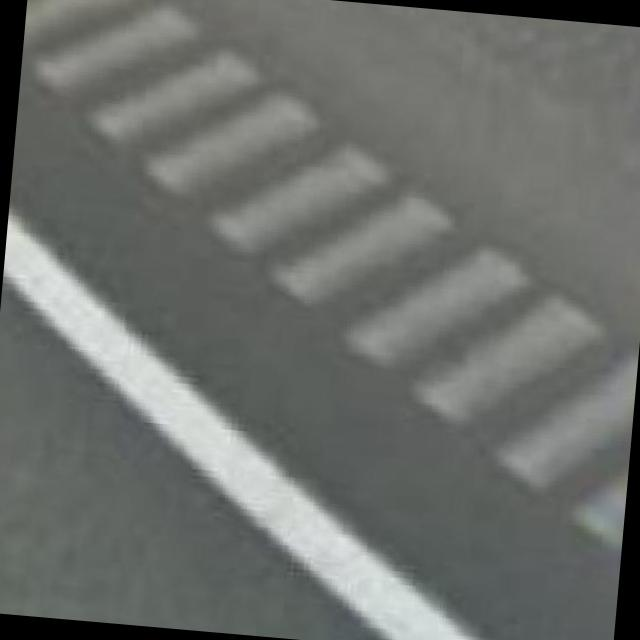zebra: (21, 0, 637, 577)
